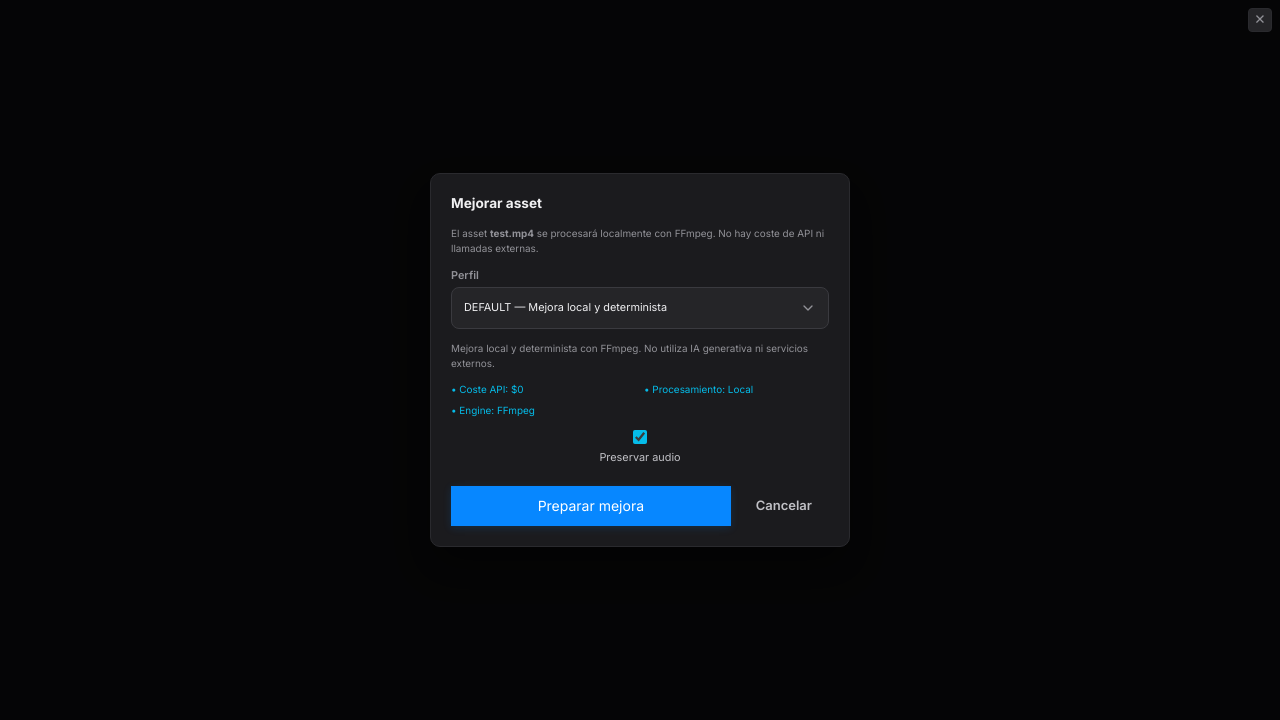
Test: EnhancementPanel › shows UPSCALE profile options when selected
This screenshot has width=1280, height=720.
Note: Click to open select
Click the button with aria-label "Perfil de mejora".
click(640, 308)  # box [451,287,829,329]
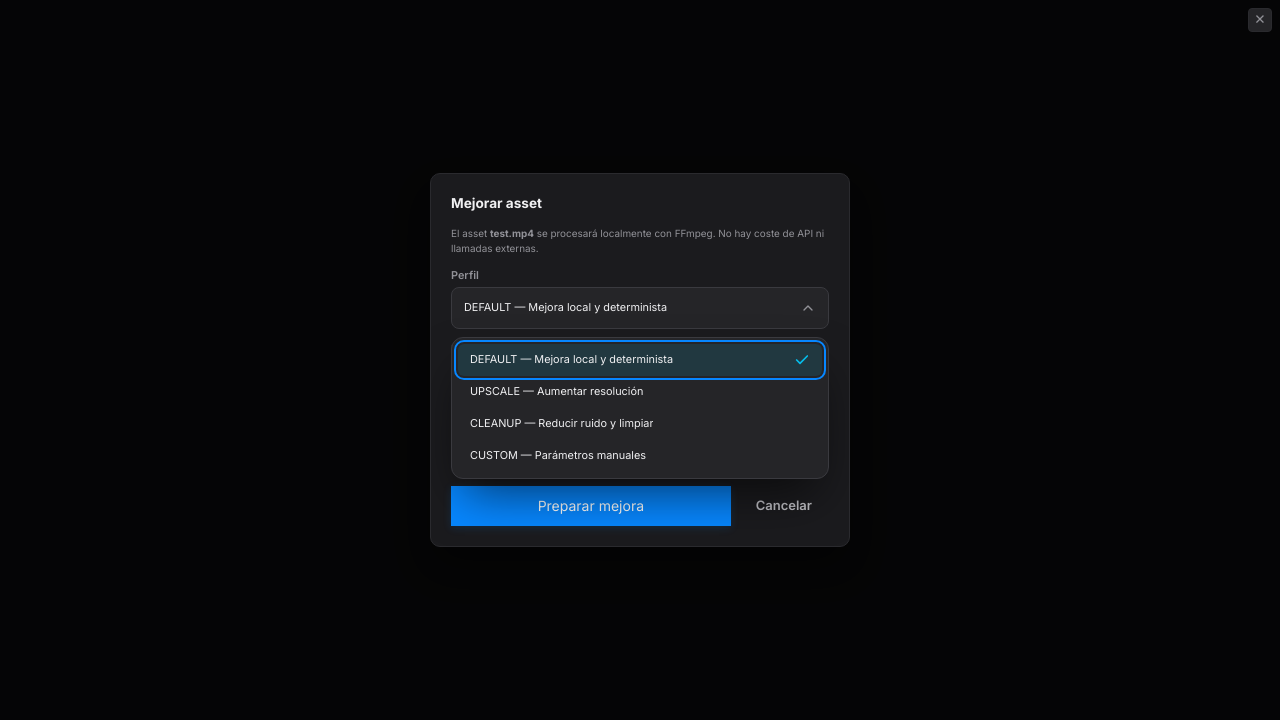
Now the text "UPSCALE — Aumentar resolución" is shown, box [470,384,643,400]
